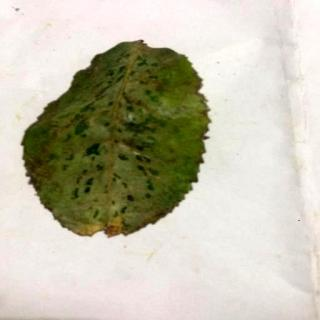Red Leaf Spot: (22, 41, 211, 237)
